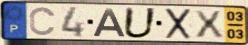4: (59, 5, 88, 39)
A: (91, 7, 127, 38)
C: (29, 6, 58, 37)
U: (121, 6, 159, 40)
X: (192, 9, 226, 39), (164, 8, 193, 41)
